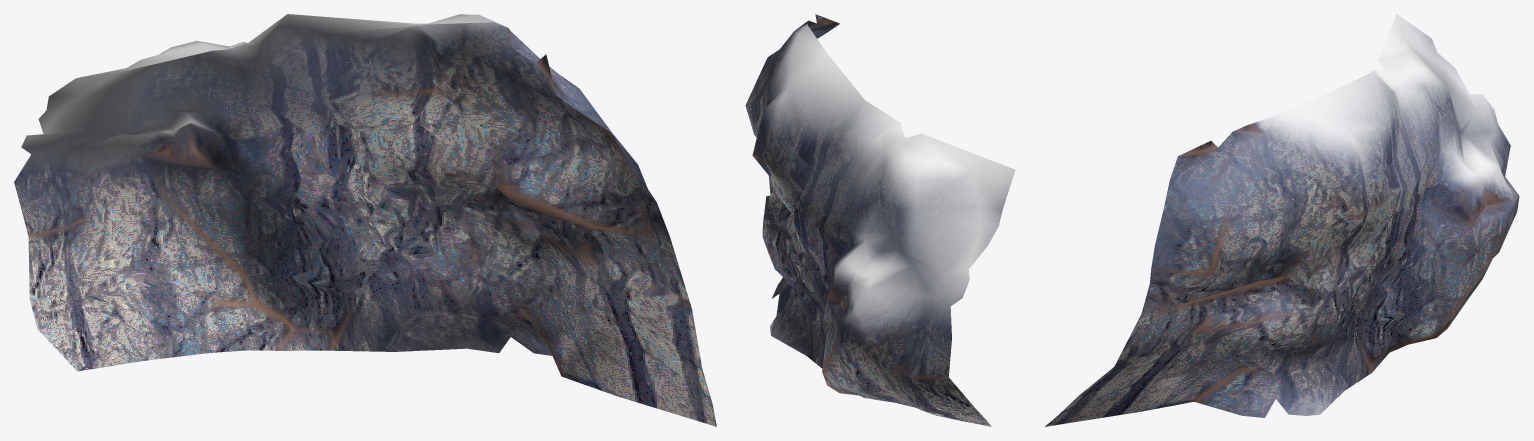
The model's file is ykp_kallio.glb.
3 views of the same model, side by side, from view 1: azimuth 30°, elevation 25°; view 2: azimuth 150°, elevation 25°; view 3: azimuth 270°, elevation 25° (orthographic). The views are drawn at different scales.
Visible parts, largest first — view 1: ykp_mustavuorikallio; view 2: ykp_mustavuorikallio; view 3: ykp_mustavuorikallio.
Part boxes in pixels (left/top/right/bottom): ykp_mustavuorikallio: left=14, top=14, right=716, bottom=426; ykp_mustavuorikallio: left=745, top=14, right=1015, bottom=426; ykp_mustavuorikallio: left=1045, top=14, right=1519, bottom=426.
Bounding box in the file's own units: 6.19 × 4.67 × 6.91.
Materials: 1 (1 with a texture image).
